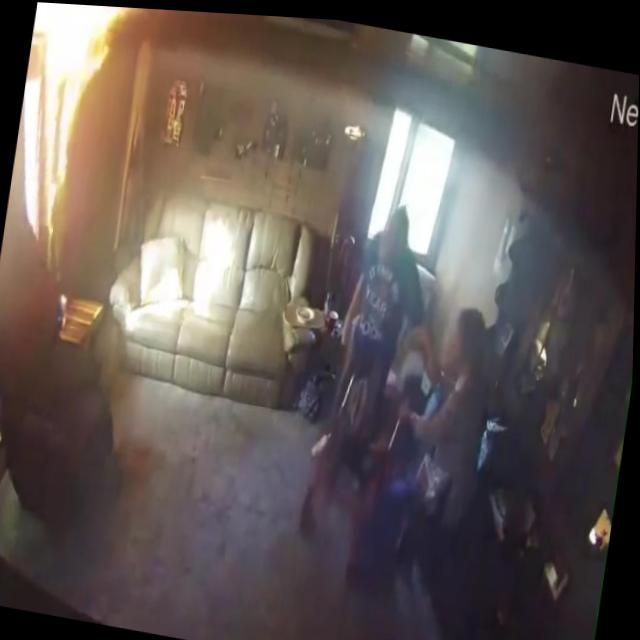fire: (4, 0, 138, 249)
